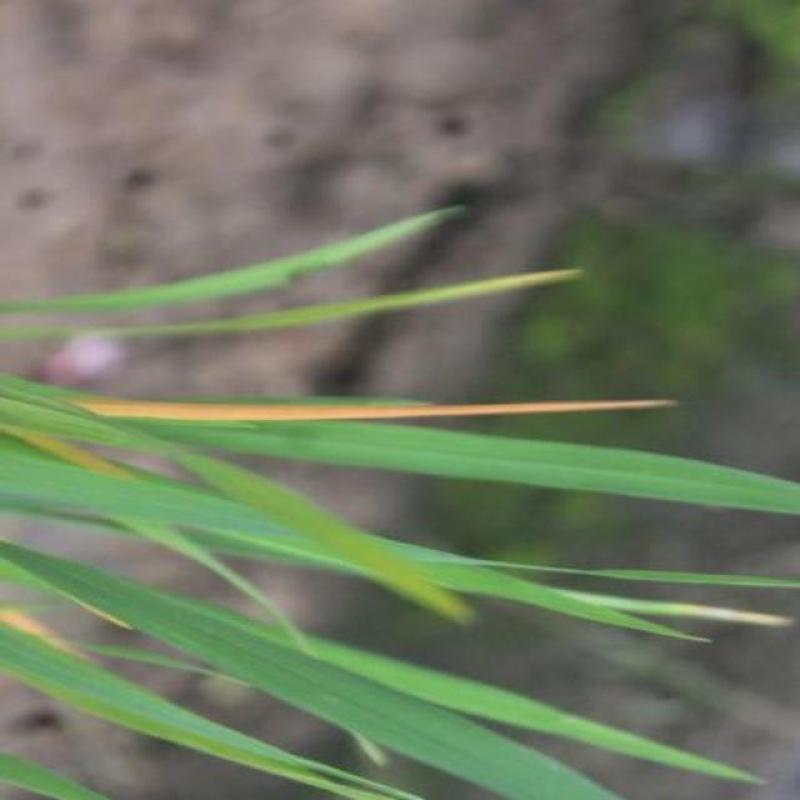Rice Tungro: (114, 368, 686, 432)
